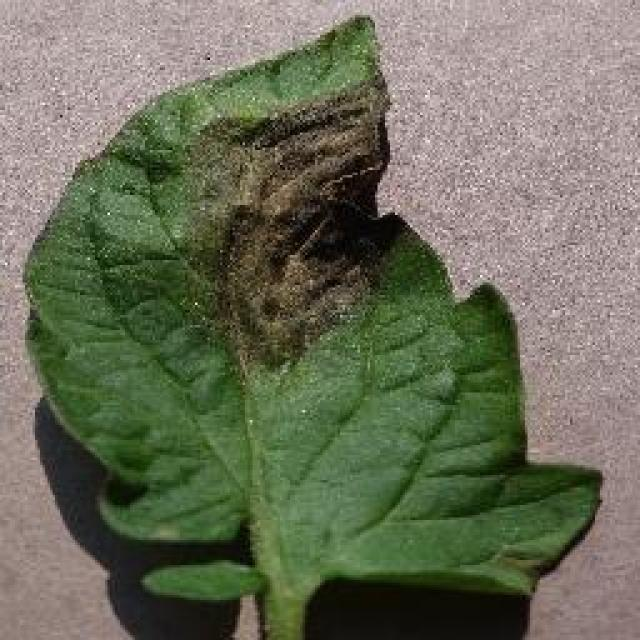Tomato late blight leaf: (24, 16, 596, 636)
